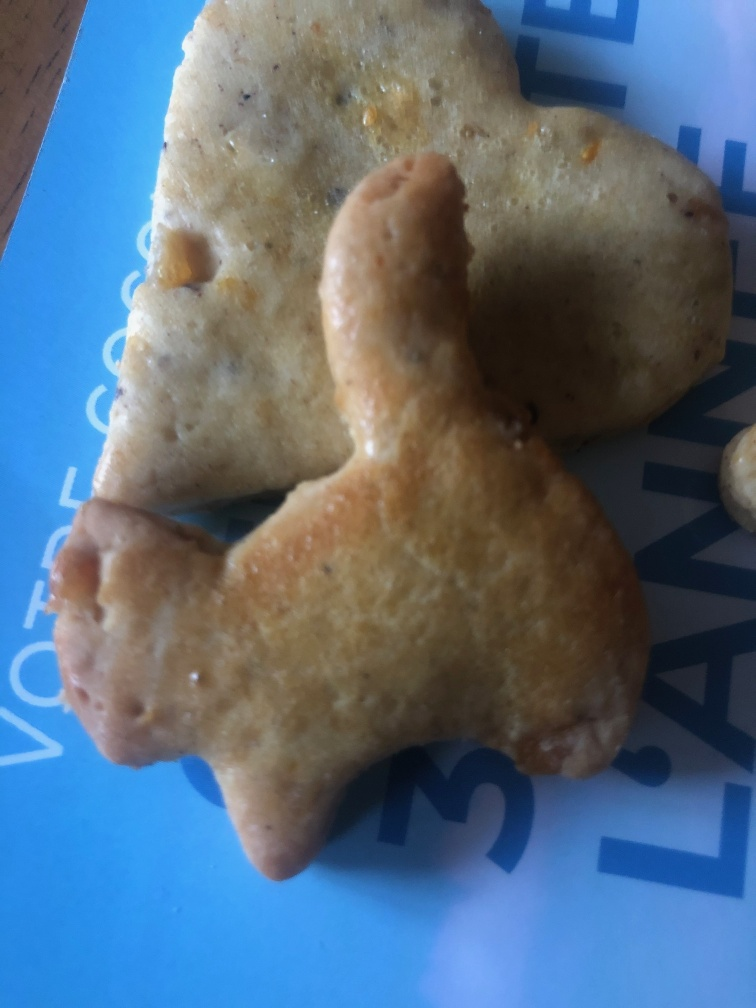heart: (95, 1, 737, 511)
squirrel: (41, 149, 647, 870)
